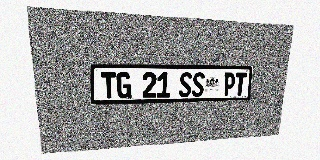1: (156, 72, 170, 98)
2: (142, 72, 156, 98)
G: (116, 72, 131, 99)
P: (222, 73, 236, 96)
S: (191, 72, 205, 97), (179, 72, 192, 97)
T: (101, 72, 116, 99), (234, 73, 247, 96)
